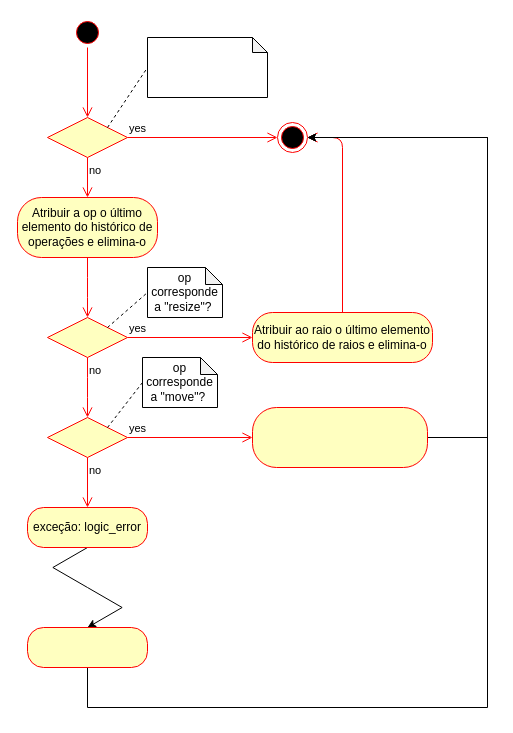
This 513x733 diagram has some shape labels left out. The centre of each missing label's shape, as x and y in pixels:
Operação irreconhecível no histórico: pixel 87 647
Tamanho do histórico de operações vazio?: pixel 207 67
Undo do centro atualiza coordenada x e y com os valores antigos: pixel 340 437
